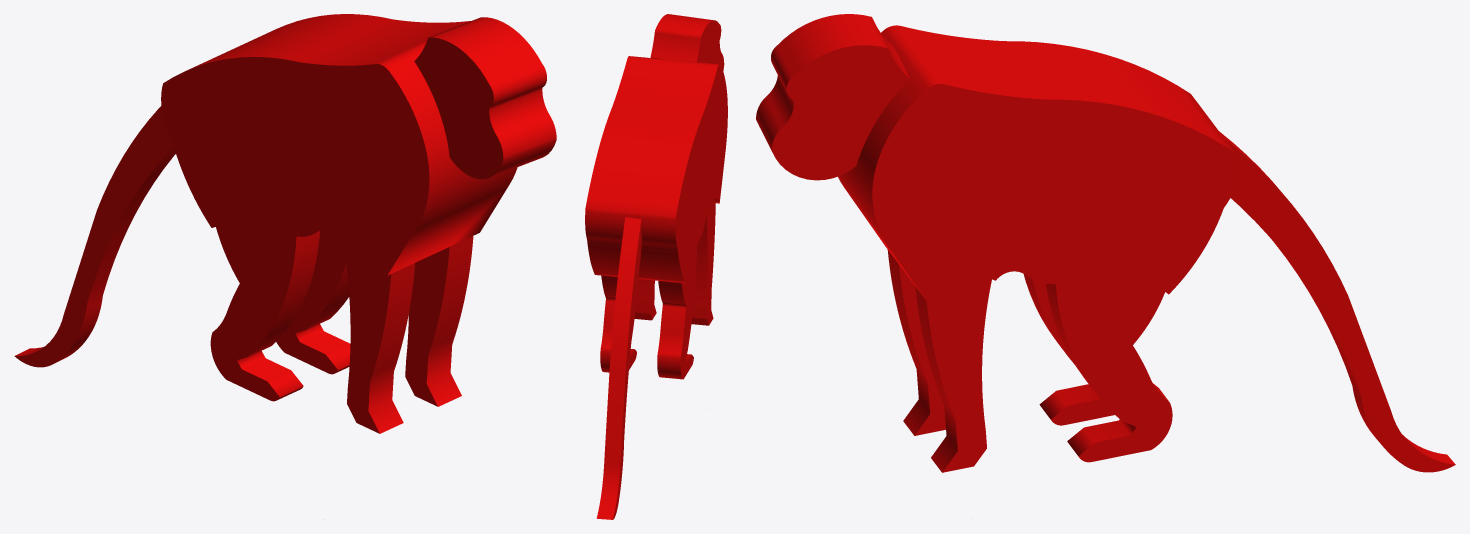
Rendered from bboat.gltf.
3 renders of one model, left to right at view 1: azimuth 30°, elevation 25°; view 2: azimuth 150°, elevation 25°; view 3: azimuth 270°, elevation 25°, orthographic. The views are drawn at different scales.
Visible parts, largest first — view 1: Mesh7 Group1 Model, Mesh2 Group3 Group1 Model, Mesh4 Group5 Group1 Model, Mesh6 Group7 Group1 Model, Mesh5 Group6 Group1 Model, Mesh3 Group4 Group1 Model, Mesh1 Group2 Group1 Model; view 2: Mesh7 Group1 Model, Mesh6 Group7 Group1 Model, Mesh4 Group5 Group1 Model, Mesh2 Group3 Group1 Model, Mesh5 Group6 Group1 Model, Mesh1 Group2 Group1 Model, Mesh3 Group4 Group1 Model; view 3: Mesh7 Group1 Model, Mesh2 Group3 Group1 Model, Mesh1 Group2 Group1 Model, Mesh6 Group7 Group1 Model, Mesh3 Group4 Group1 Model, Mesh5 Group6 Group1 Model, Mesh4 Group5 Group1 Model.
Boxes of the visible parts, x1,y1,x2,y2 form: Mesh7 Group1 Model: (161, 14, 517, 275); Mesh2 Group3 Group1 Model: (414, 17, 556, 179); Mesh4 Group5 Group1 Model: (210, 222, 319, 401); Mesh6 Group7 Group1 Model: (14, 106, 175, 367); Mesh5 Group6 Group1 Model: (343, 240, 414, 433); Mesh3 Group4 Group1 Model: (405, 236, 473, 406); Mesh1 Group2 Group1 Model: (276, 230, 350, 374); Mesh7 Group1 Model: (585, 56, 727, 283); Mesh6 Group7 Group1 Model: (596, 217, 641, 519); Mesh4 Group5 Group1 Model: (657, 244, 697, 379); Mesh2 Group3 Group1 Model: (650, 14, 724, 70); Mesh5 Group6 Group1 Model: (691, 199, 715, 325); Mesh1 Group2 Group1 Model: (600, 275, 638, 372); Mesh3 Group4 Group1 Model: (634, 279, 656, 320); Mesh7 Group1 Model: (838, 25, 1237, 304); Mesh2 Group3 Group1 Model: (756, 14, 909, 180); Mesh1 Group2 Group1 Model: (1046, 273, 1172, 462); Mesh6 Group7 Group1 Model: (1219, 131, 1455, 472); Mesh3 Group4 Group1 Model: (915, 276, 991, 472); Mesh5 Group6 Group1 Model: (887, 250, 945, 435); Mesh4 Group5 Group1 Model: (1023, 274, 1114, 425).
Bounding box in the file's own units: 368 × 759 × 897.
